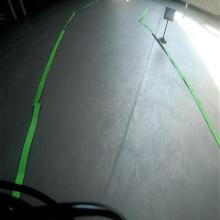crosswalk: (163, 6, 176, 22)
